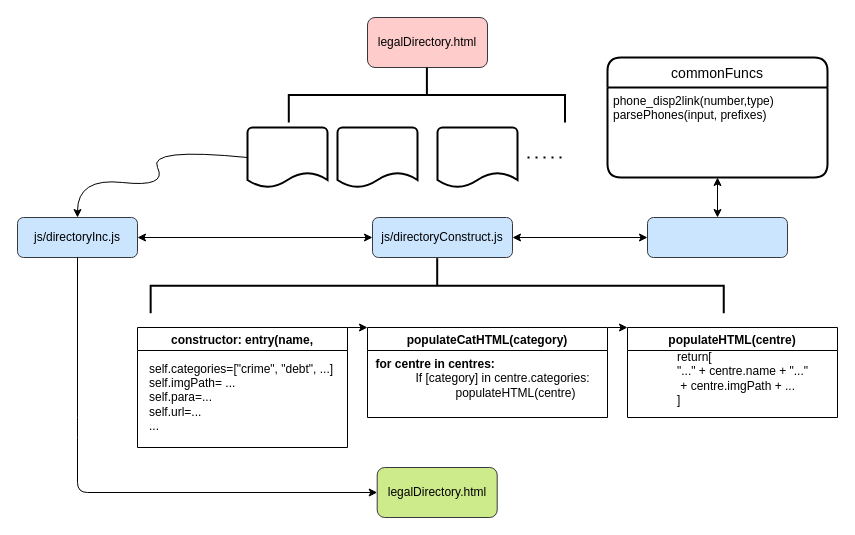
Image size: 855x535. Some labels were removed from this diagram. The shapes that lost their labels are listed below. From the top down, each one's centre as x and y in pixels, then its label:
point (287, 157): Criminal
point (377, 157): Debt
point (477, 157): Discrimination
point (717, 237): js/commonFuncs.js
